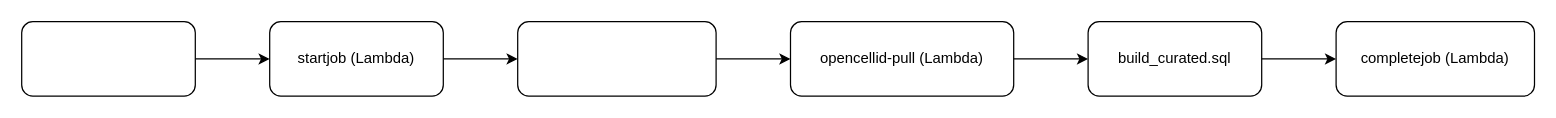
The diagram is 1556 pixels wide and 118 high, and some of its shapes have lost their labels. Here are the shapes that lost their labels. From the top down, the centre of each, then its label:
At (107,58): "EventBridge Trigger".
At (616,58): "getjobdetails (Lambda)".
